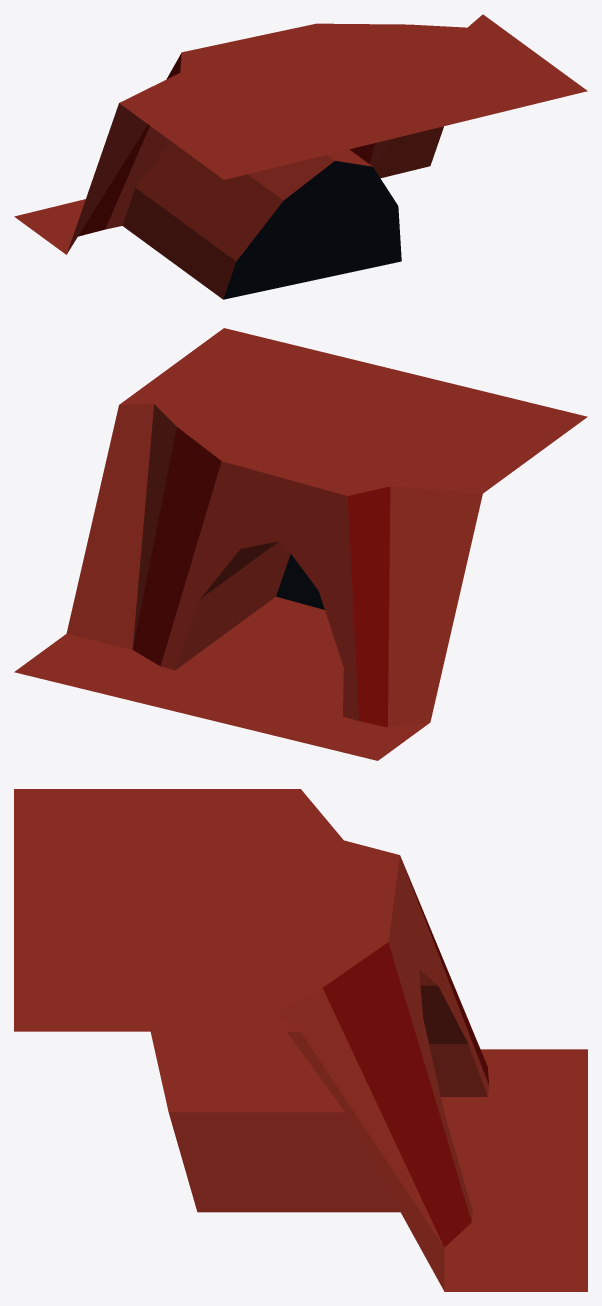
The model's file is Border_Tunel.fbx.
The picture shows the model from 3 angles, top to bottom: view 1: azimuth 30°, elevation 25°; view 2: azimuth 150°, elevation 25°; view 3: azimuth 270°, elevation 25°; orthographic projection. The views are drawn at different scales.
Parts seen in each view (by area): view 1: Plane.044; view 2: Plane.044; view 3: Plane.044.
Boxes of the visible parts, x1,y1,x2,y2 form: Plane.044: (14,14,587,299); Plane.044: (14,328,587,760); Plane.044: (14,789,587,1291).
Size of the model in its own units: 200 by 100 by 200.
